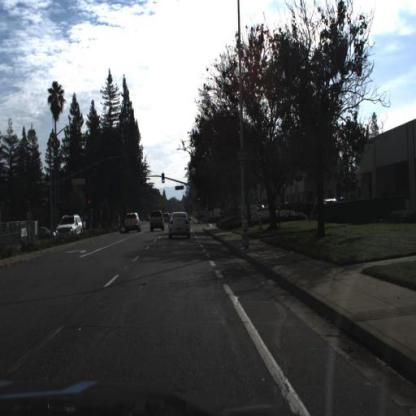car: (169, 203, 193, 239), (55, 214, 86, 241), (56, 213, 87, 240), (149, 210, 167, 238), (219, 206, 241, 224), (125, 210, 142, 233), (321, 195, 339, 209), (161, 211, 173, 225), (119, 217, 127, 229), (146, 215, 152, 225)
trafficLight-Green: (198, 191, 202, 204), (163, 172, 167, 183)
trafficLight-RedLeft: (88, 199, 93, 211), (140, 176, 145, 188)
